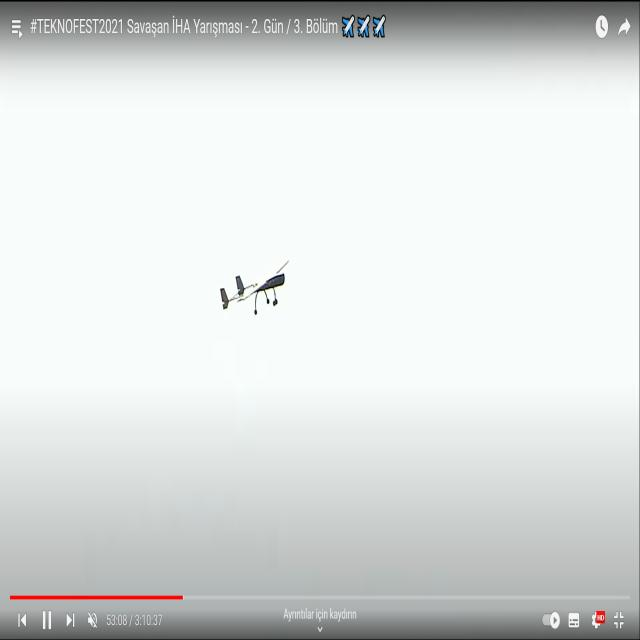iha: (253, 260, 257, 315)
